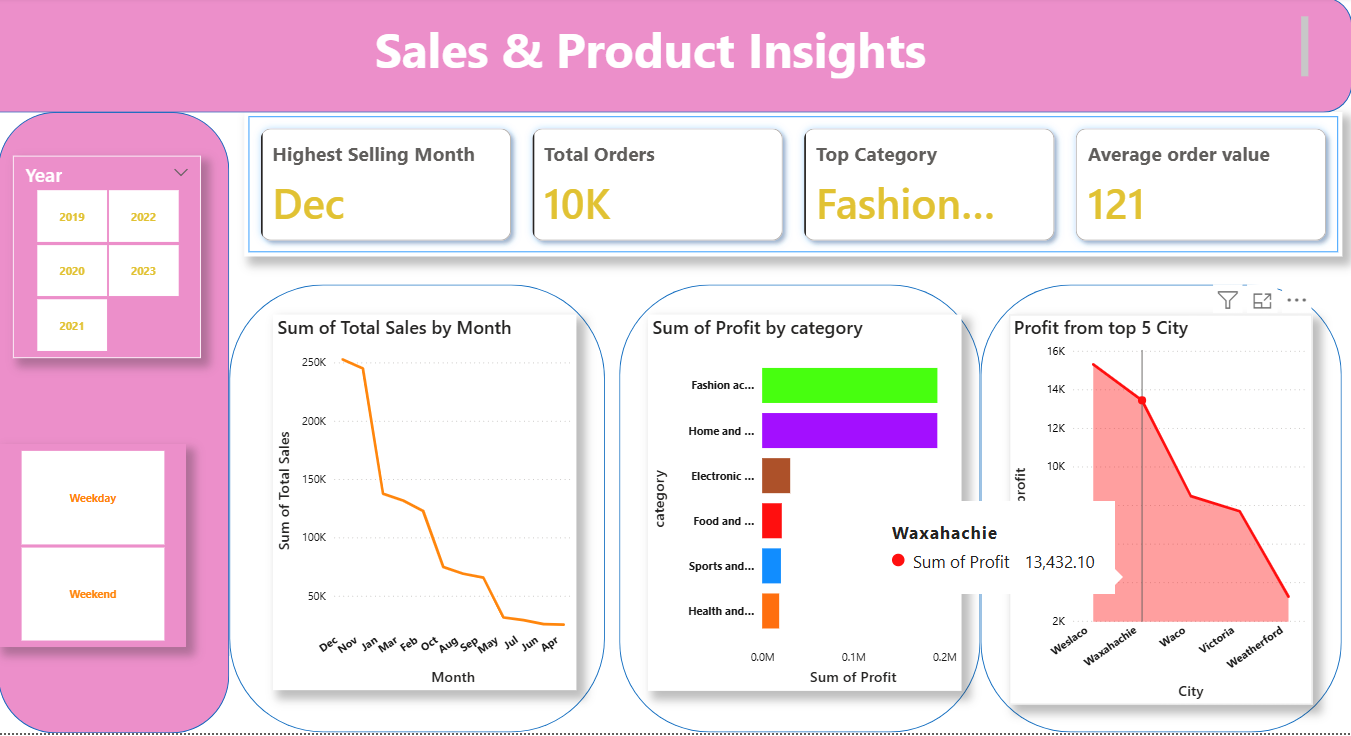

Layout of this report page (visuals, bound fields, positions):
{"tool":"powerbi","page":{"name":"Page 2","canvas":[1500,815],"ordinal":1},"visuals":[{"type":"cardVisual","fields":{"Data":["walmart_clean_data.Highest Selling Month","walmart_clean_data.Total Orders","walmart_clean_data.Top Category","walmart_clean_data.AOV"]},"box":[272,128,1216,160],"z":0},{"type":"shape","box":[-84,0,1584,128],"z":1000},{"type":"textbox","box":[-4.2,16.6,1460.3,78.9],"z":2000},{"type":"shape","box":[0,127,256,688],"z":3000},{"type":"shape","box":[256,319,416,496],"z":4000},{"type":"shape","box":[688,319,400,496],"z":5000},{"type":"shape","box":[1088,319,400,496],"z":6000},{"type":"slicer","fields":{"Values":["walmart_clean_data.Year"]},"box":[16,176,208,224],"z":7000},{"type":"slicer","fields":{"Values":["walmart_clean_data.Is Weekend"]},"box":[0,496,208,224],"z":8000},{"type":"lineChart","fields":{"Category":["walmart_clean_data.Month"],"Y":["Sum(walmart_clean_data.Total Sales)"]},"box":[304,352,336,416],"z":9000},{"type":"barChart","fields":{"Category":["walmart_clean_data.category"],"Y":["Sum(walmart_clean_data.Profit)"]},"box":[719.8,351.6,347.4,416.6],"z":10000},{"type":"areaChart","title":"Profit from top 5 City","fields":{"Category":["walmart_clean_data.City"],"Y":["Sum(walmart_clean_data.Profit)"]},"box":[1120,352,336,432],"z":11000}]}

Visuals, with their boxes in screenshot pixels (x1, y1, x2, y2), scaled from the page's 1500x815 canvas onto the 1351x736 screenshot:
cardVisual - walmart_clean_data.Highest Selling Month x walmart_clean_data.Total Orders: <box>245,116,1340,260</box>
shape: <box>0,0,1350,116</box>
textbox: <box>0,15,1311,86</box>
shape: <box>0,115,231,735</box>
shape: <box>231,288,605,735</box>
shape: <box>620,288,980,735</box>
shape: <box>980,288,1340,735</box>
slicer - walmart_clean_data.Year: <box>14,159,202,361</box>
slicer - walmart_clean_data.Is Weekend: <box>0,448,187,650</box>
lineChart - walmart_clean_data.Month x Sum(walmart_clean_data.Total Sales): <box>274,318,576,694</box>
barChart - walmart_clean_data.category x Sum(walmart_clean_data.Profit): <box>648,318,961,694</box>
"Profit from top 5 City" areaChart: <box>1009,318,1311,708</box>
